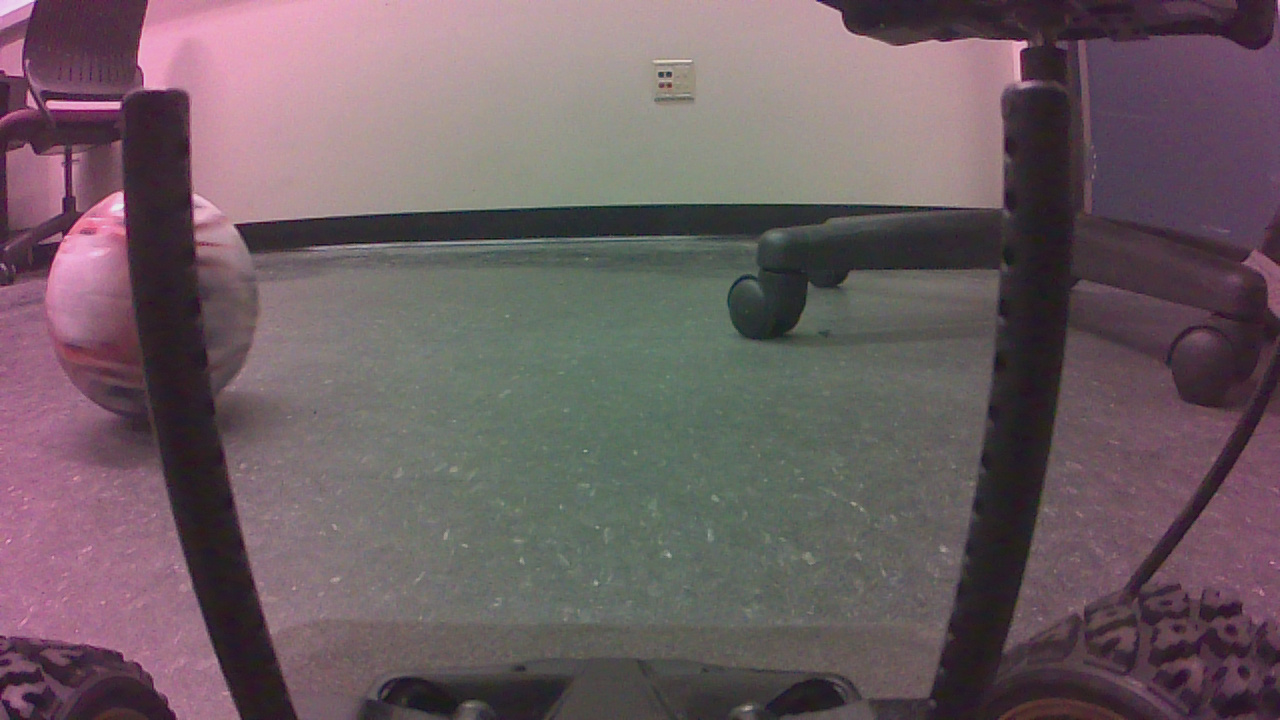ball: (51, 189, 267, 428)
